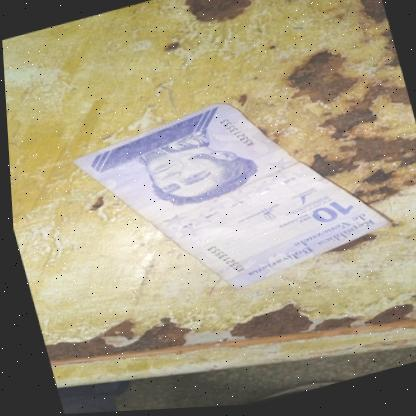ten-front-vef: (60, 70, 397, 326)
